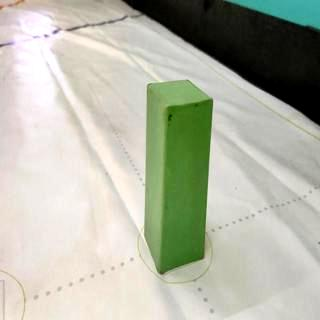greenbox: (144, 76, 216, 276)
